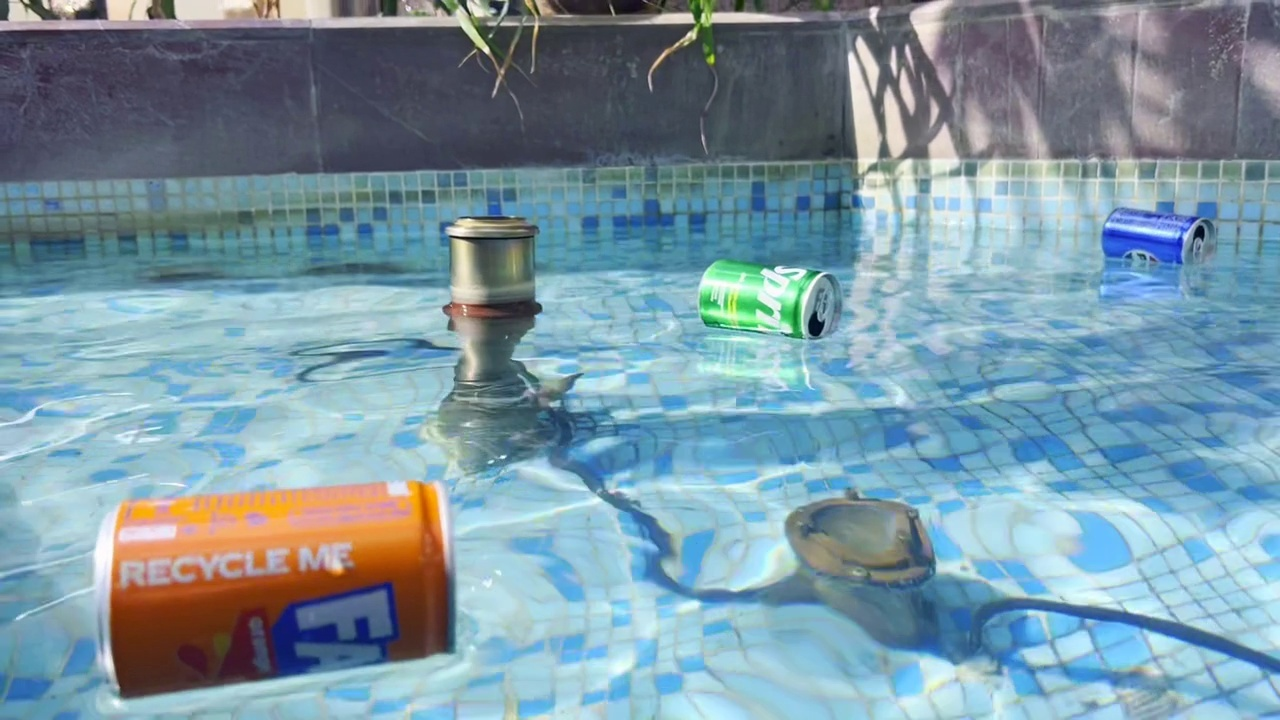debris: (78, 476, 468, 700), (687, 248, 842, 349), (1093, 197, 1217, 280)
